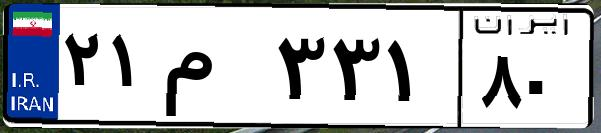0: (525, 38, 570, 115)
1: (385, 28, 445, 110), (110, 28, 158, 98)
2: (57, 26, 110, 100)
3: (270, 28, 330, 110), (330, 28, 385, 110)
8: (475, 38, 525, 113)
م: (158, 20, 270, 120)
